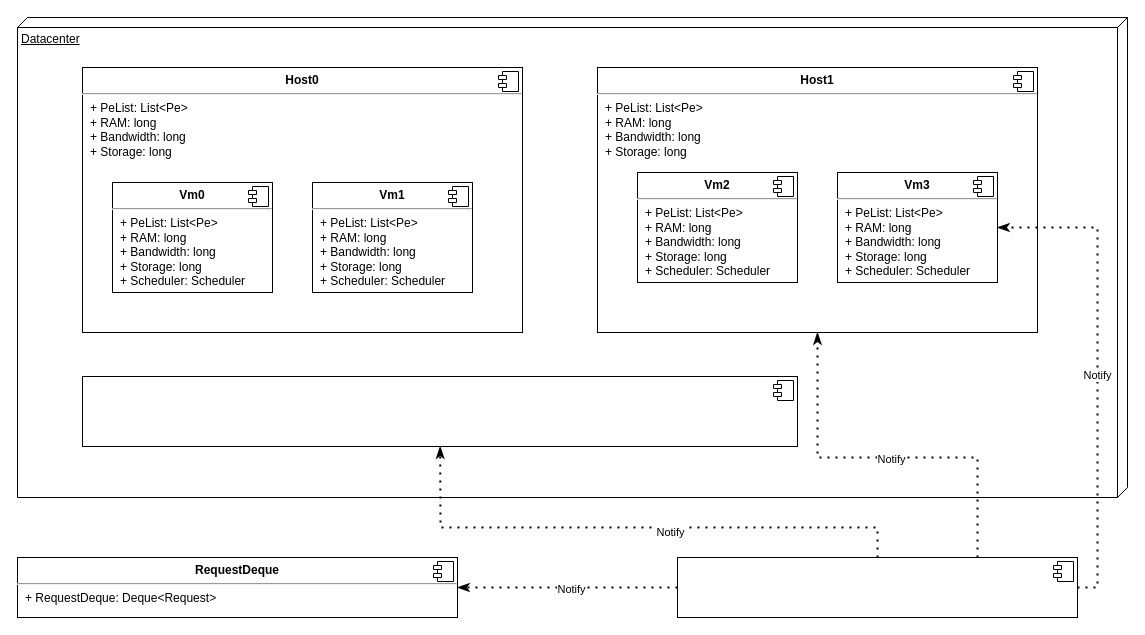
The diagram is 1145 pixels wide and 635 high, and some of its shapes have lost their labels. Here are the shapes that lost their labels. From the top down, the centre of each, then its label:
At point 440,411: "Broker + VmList: List<Vm> + CloudletList: List<Cloudlet>".
At point 877,587: "Simulation + Clock: Clock".
